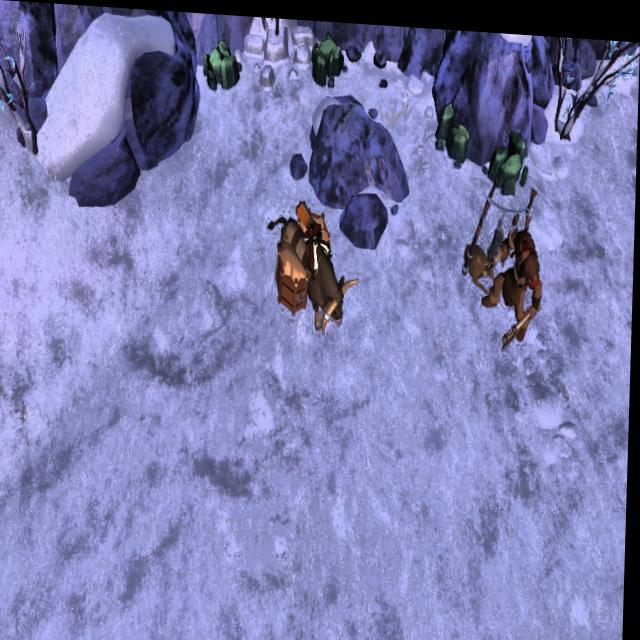enemy_factionKeeper: (483, 217, 546, 335)
rock_t3: (483, 120, 532, 188), (199, 34, 246, 94), (433, 93, 473, 162), (309, 26, 351, 87)
